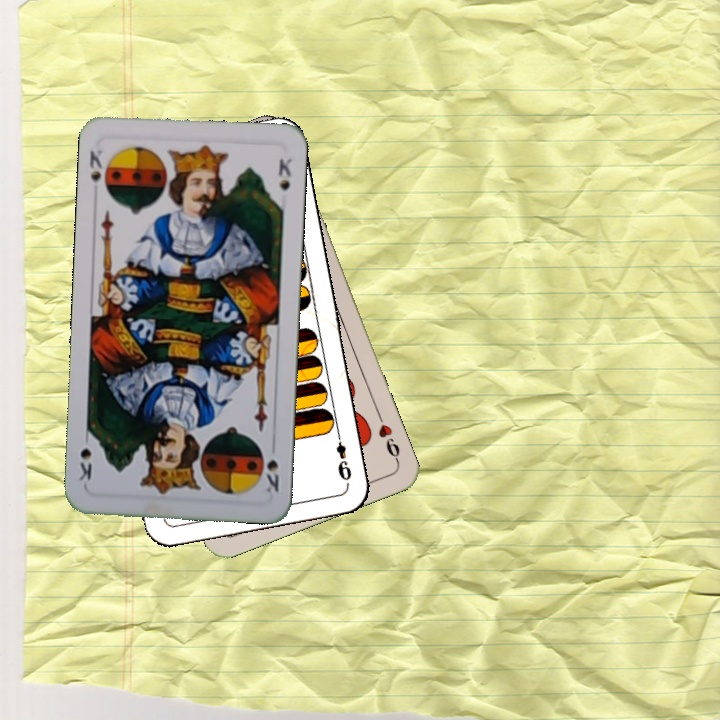E9: (332, 427, 354, 483)
H9: (373, 408, 403, 465)
SK: (257, 444, 282, 495), (85, 145, 105, 184)
